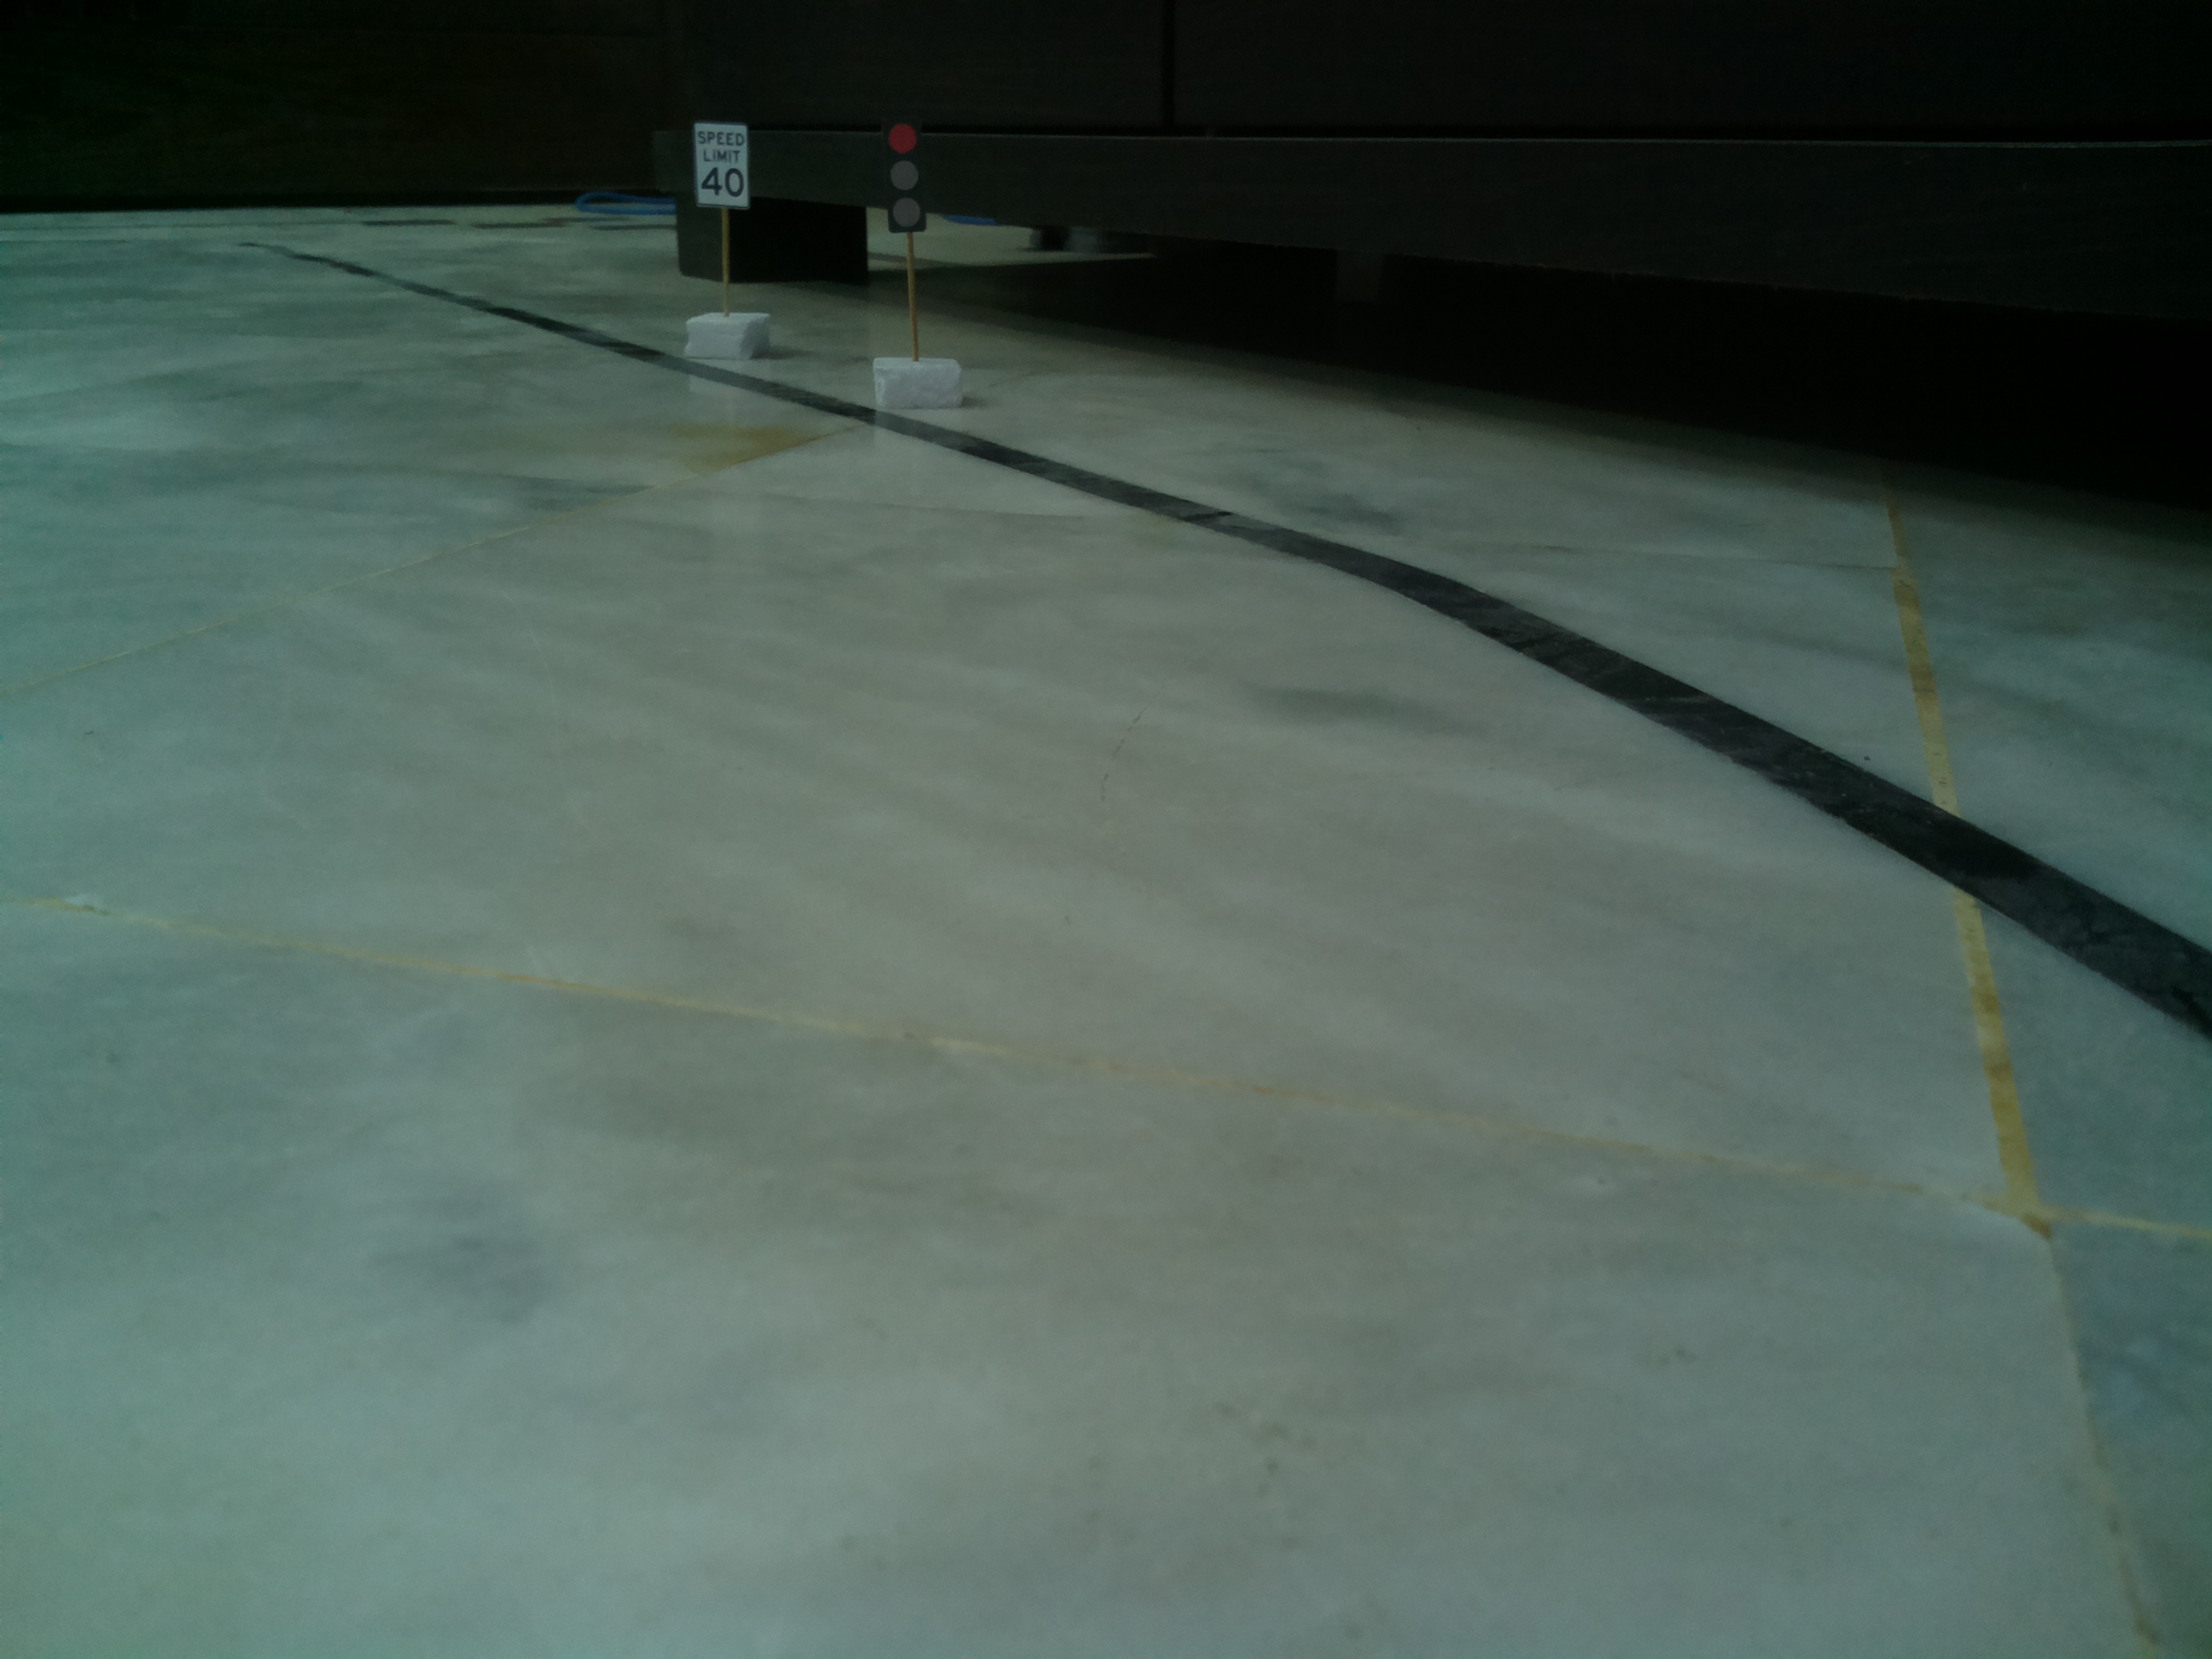Red traffic light: (860, 117, 939, 242)
Speed limit 40: (686, 110, 756, 214)
